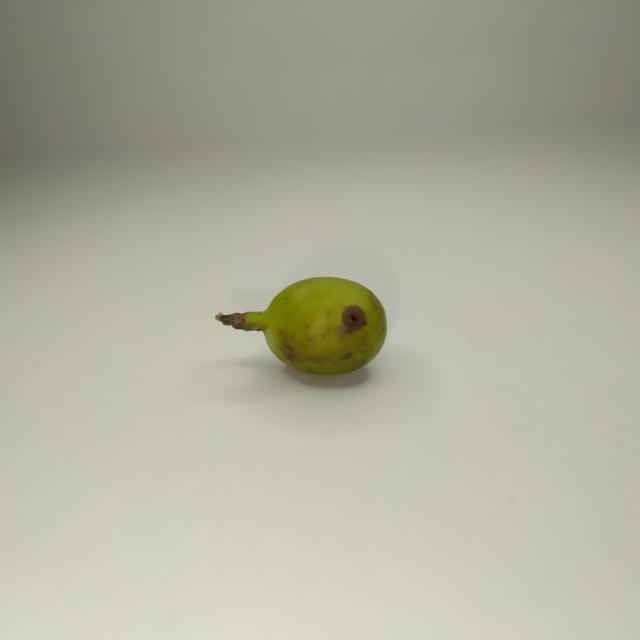Infectado: (218, 278, 386, 375)
